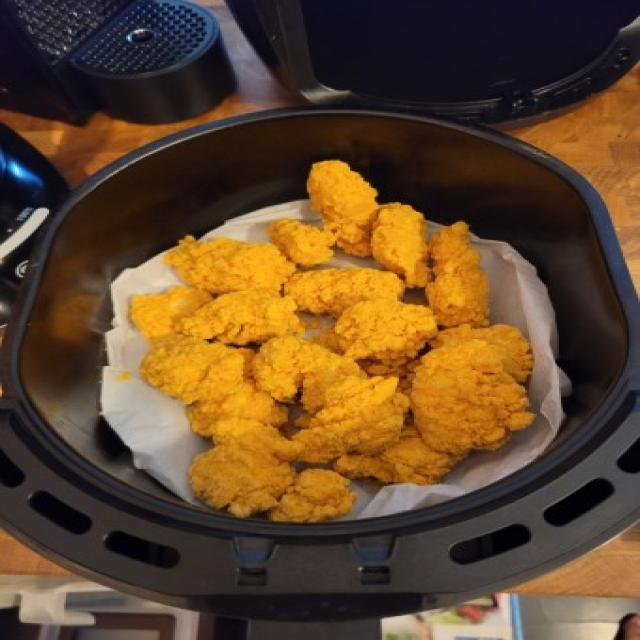Frango: (112, 157, 553, 528)
